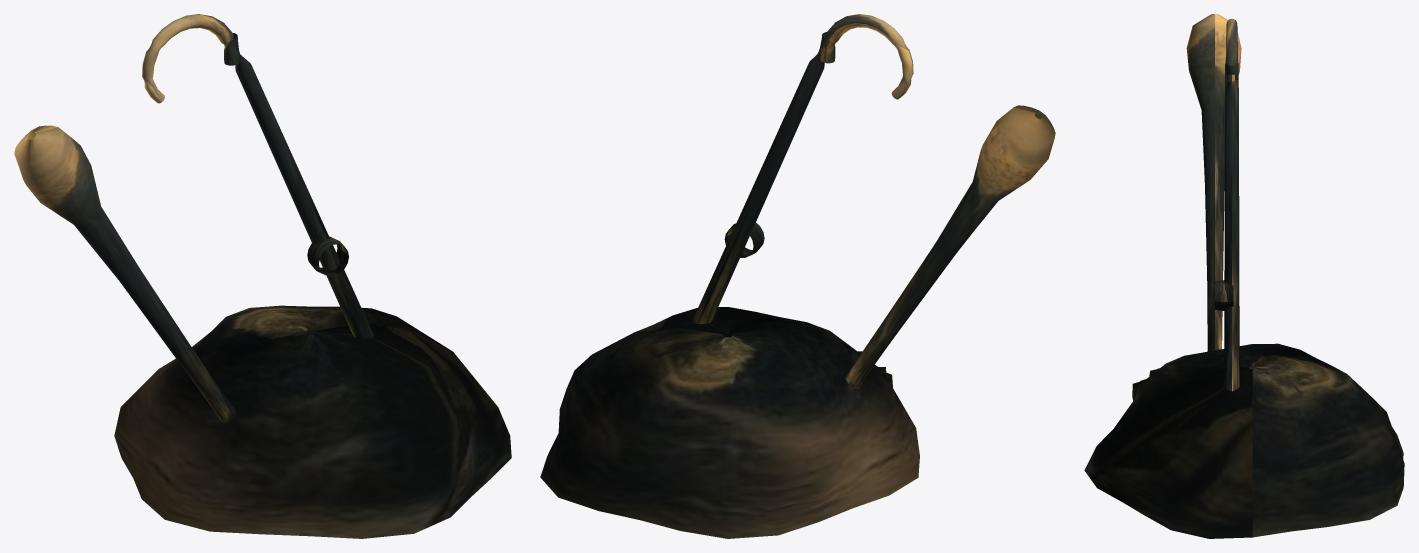
File: shepherds-rod-and-staff.glb
3 renders of one model, left to right at view 1: azimuth 30°, elevation 25°; view 2: azimuth 150°, elevation 25°; view 3: azimuth 270°, elevation 25°, orthographic. The views are drawn at different scales.
Parts seen in each view (by area): view 1: HeroRelicMonument; view 2: HeroRelicMonument; view 3: HeroRelicMonument.
Boxes of the visible parts, <box> form: HeroRelicMonument: <box>14,14,511,538</box>; HeroRelicMonument: <box>540,14,1055,538</box>; HeroRelicMonument: <box>1084,14,1404,538</box>.
Bounding box in the file's own units: 2.42 × 2.3 × 1.69.
Materials: 1 (1 with a texture image).
